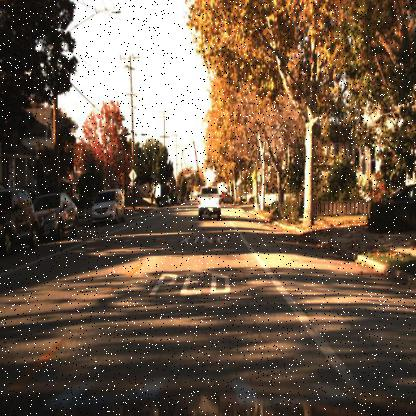car: (364, 178, 415, 240), (0, 184, 38, 258), (34, 188, 83, 244), (30, 190, 76, 239), (86, 182, 126, 233), (88, 186, 126, 226), (197, 184, 221, 224), (156, 193, 172, 211), (170, 191, 180, 206), (222, 192, 232, 205), (219, 190, 225, 202)
truck: (215, 178, 231, 192)
